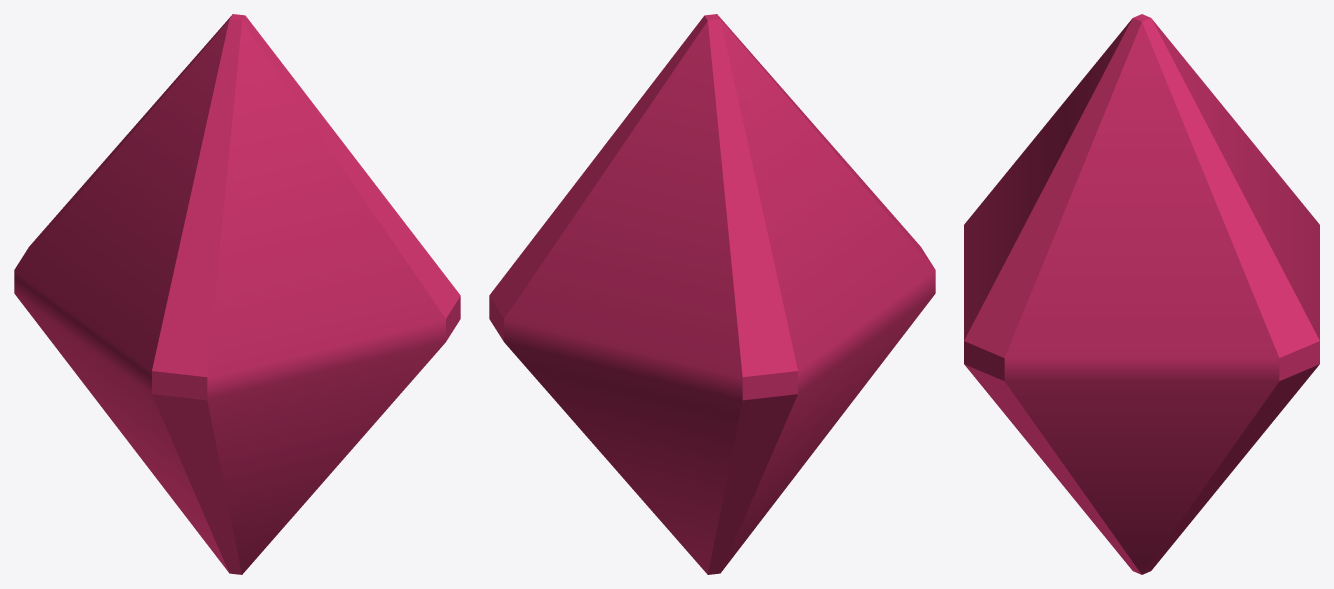
The model's file is gem.glb.
3 renders of one model, left to right at view 1: azimuth 30°, elevation 25°; view 2: azimuth 150°, elevation 25°; view 3: azimuth 270°, elevation 25°, orthographic.
Parts seen in each view (by area): view 1: UI_Gem_Pink; view 2: UI_Gem_Pink; view 3: UI_Gem_Pink.
Part boxes in pixels (<box>): UI_Gem_Pink: <box>14,14,460,574</box>; UI_Gem_Pink: <box>489,14,935,574</box>; UI_Gem_Pink: <box>964,14,1319,574</box>.
Size of the model in its own units: 0.4229 by 0.7251 by 0.4229.
Materials: 1 (1 with a texture image).
